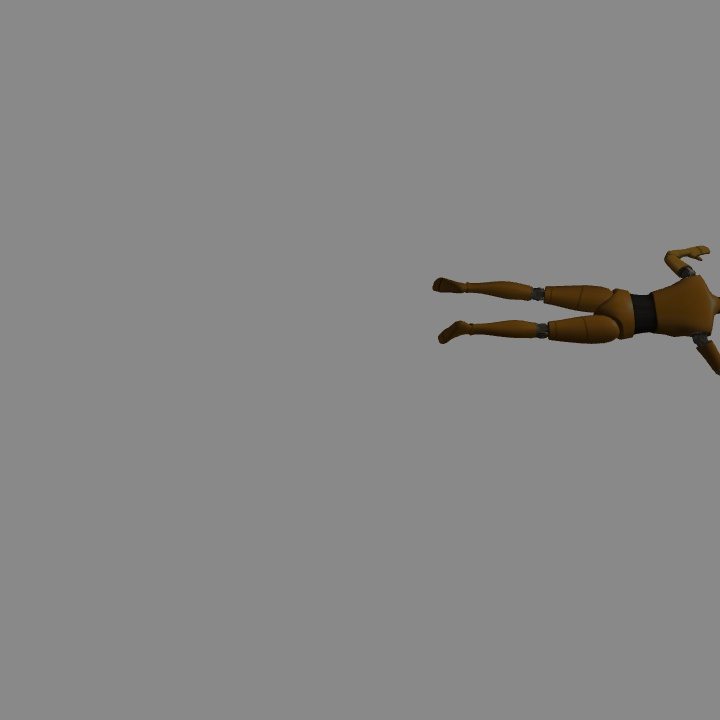victim: (433, 276, 720, 372)
